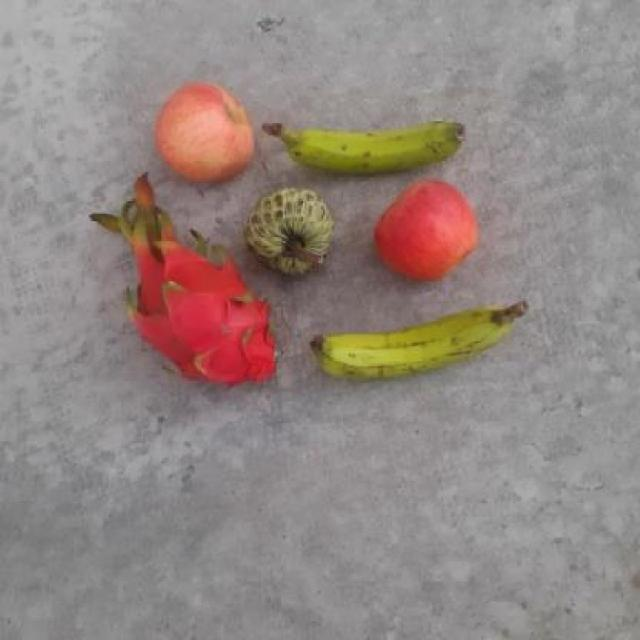apple: (370, 174, 481, 285), (149, 80, 257, 185)
banana: (307, 297, 516, 388), (275, 111, 471, 185)
dragon fruit: (121, 248, 284, 392)
sugar apple: (238, 181, 335, 277)
